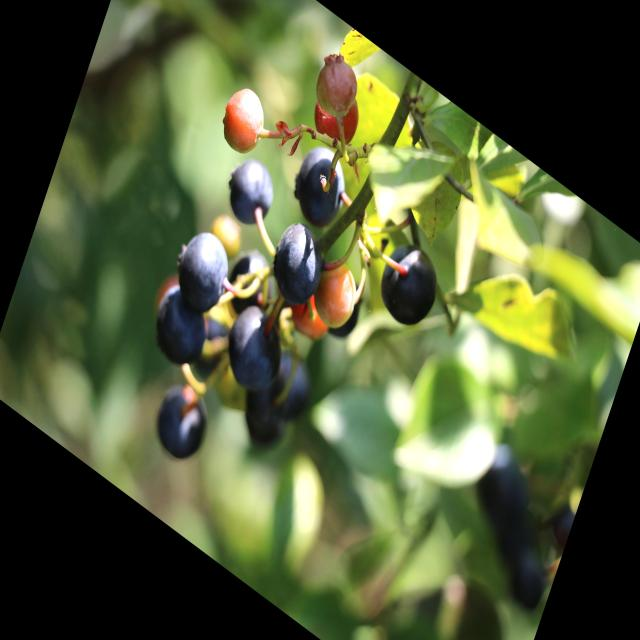blueberry: (141, 361, 223, 483), (140, 267, 222, 386), (368, 225, 449, 344), (162, 211, 243, 330), (214, 292, 294, 412), (259, 205, 338, 324), (281, 126, 359, 244), (218, 234, 286, 339), (228, 372, 298, 472), (256, 338, 324, 440), (215, 142, 283, 242), (181, 299, 244, 401)
blueberry-halfripe: (214, 75, 272, 165), (306, 252, 363, 340), (312, 82, 363, 154), (311, 48, 360, 122)
